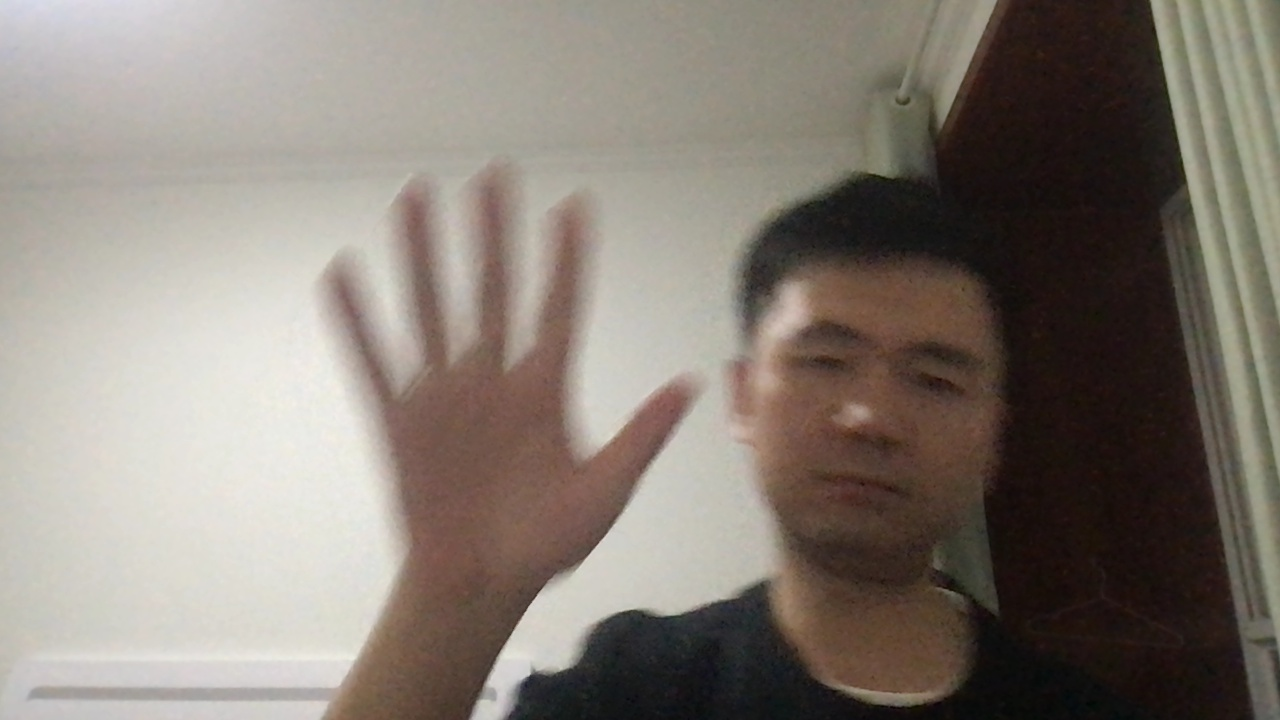hello: (310, 154, 705, 600)
